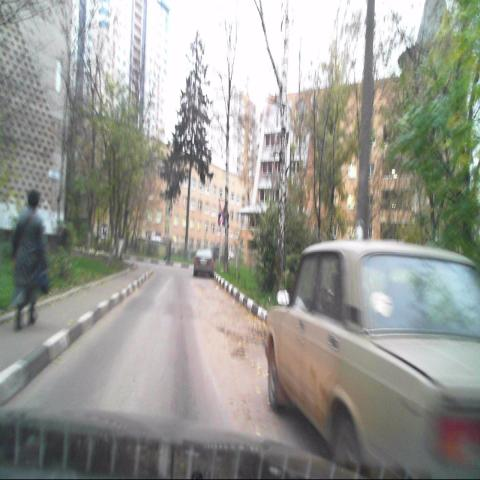2_4: (219, 198, 226, 212)
5_6: (218, 213, 224, 225)
